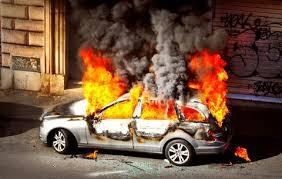fire: (88, 82, 226, 125)
smoke: (121, 11, 178, 72)
